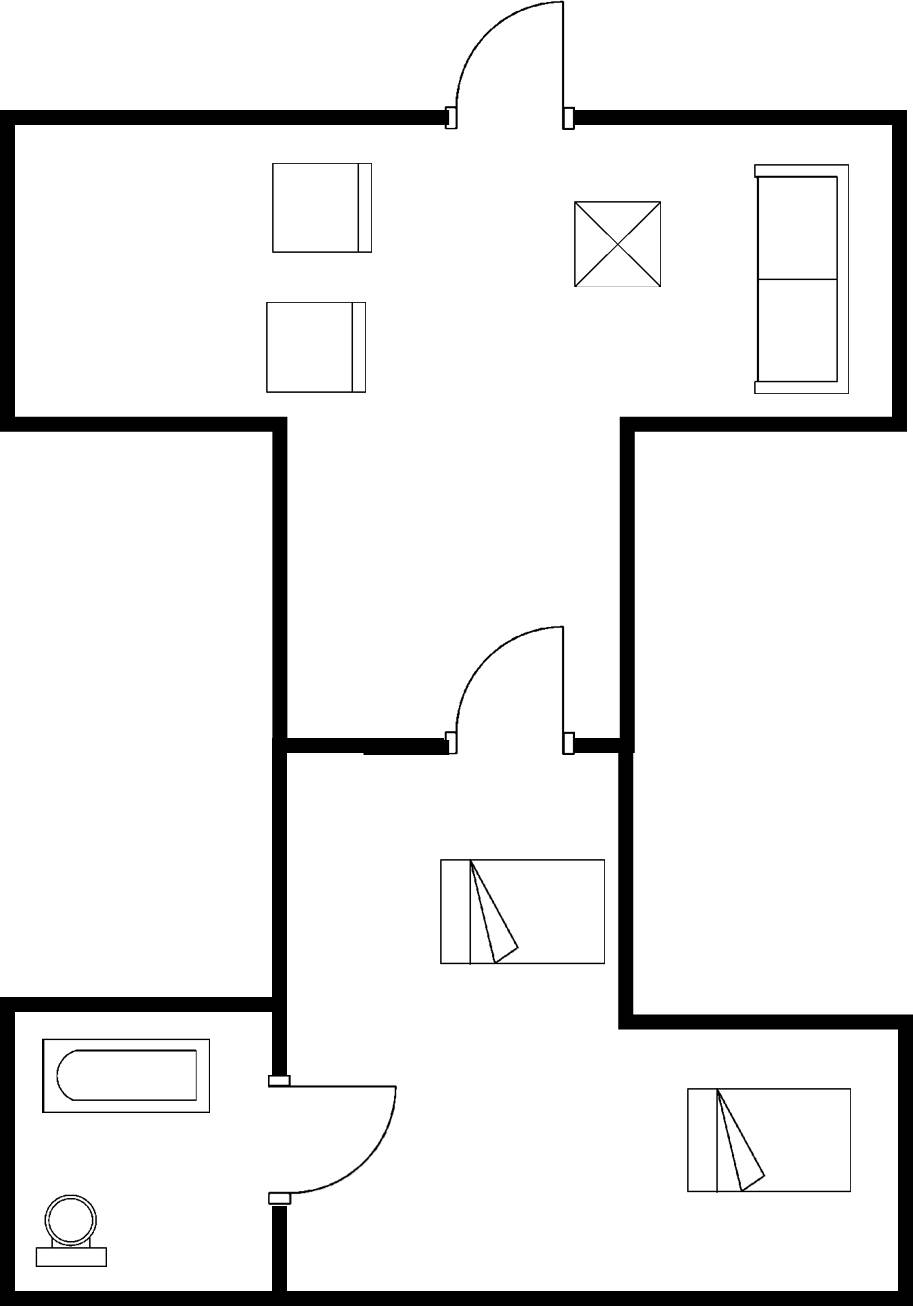bed: (432, 851, 613, 974), (681, 1080, 858, 1204)
coffee_table: (565, 191, 672, 296)
large_sink: (28, 1183, 113, 1276)
large_sofa: (746, 153, 856, 405)
small_sofa: (262, 152, 380, 265), (258, 295, 377, 405)
tub: (37, 1027, 220, 1122)
